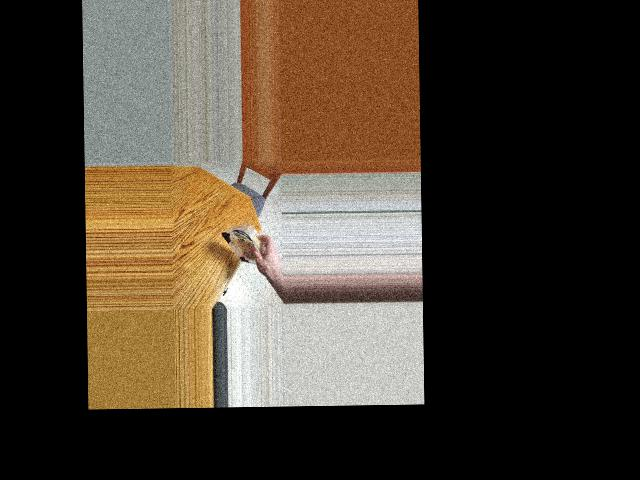cheese: (223, 219, 263, 277)
